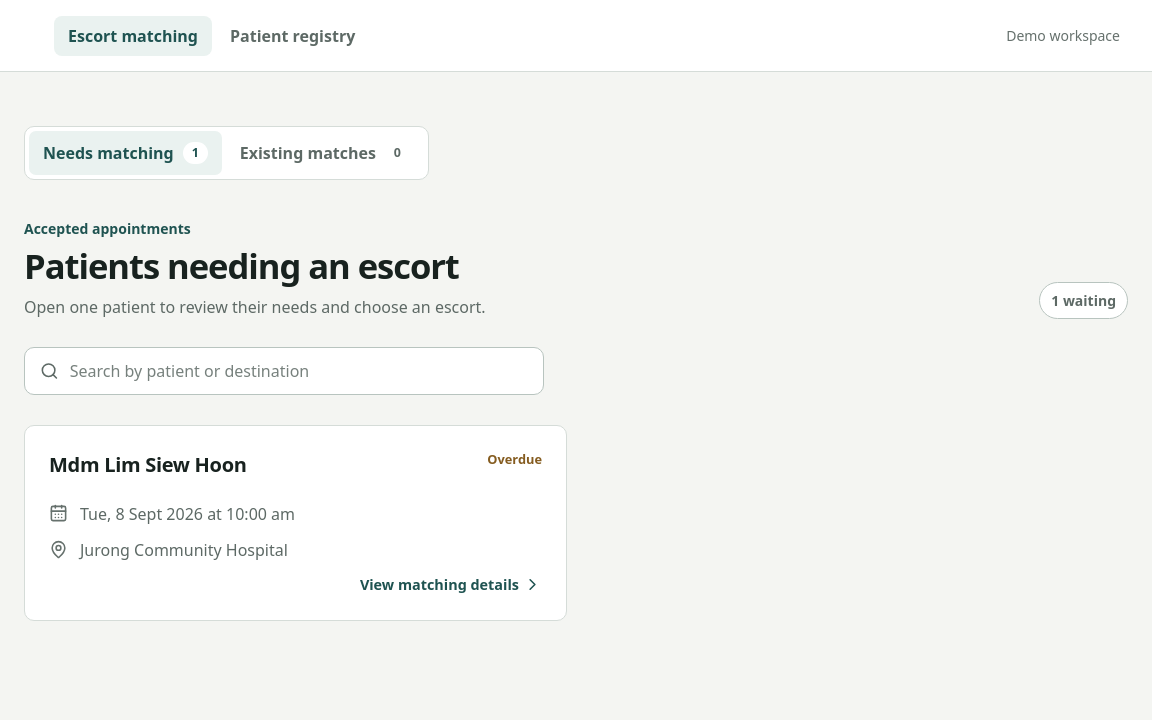
Test: MatchingWorkspace › shows confirmed patient and escort assignments in a separate tab
This screenshot has width=1152, height=720.
Click the tab "Existing matches 0": (325, 153) [226,131,424,175]
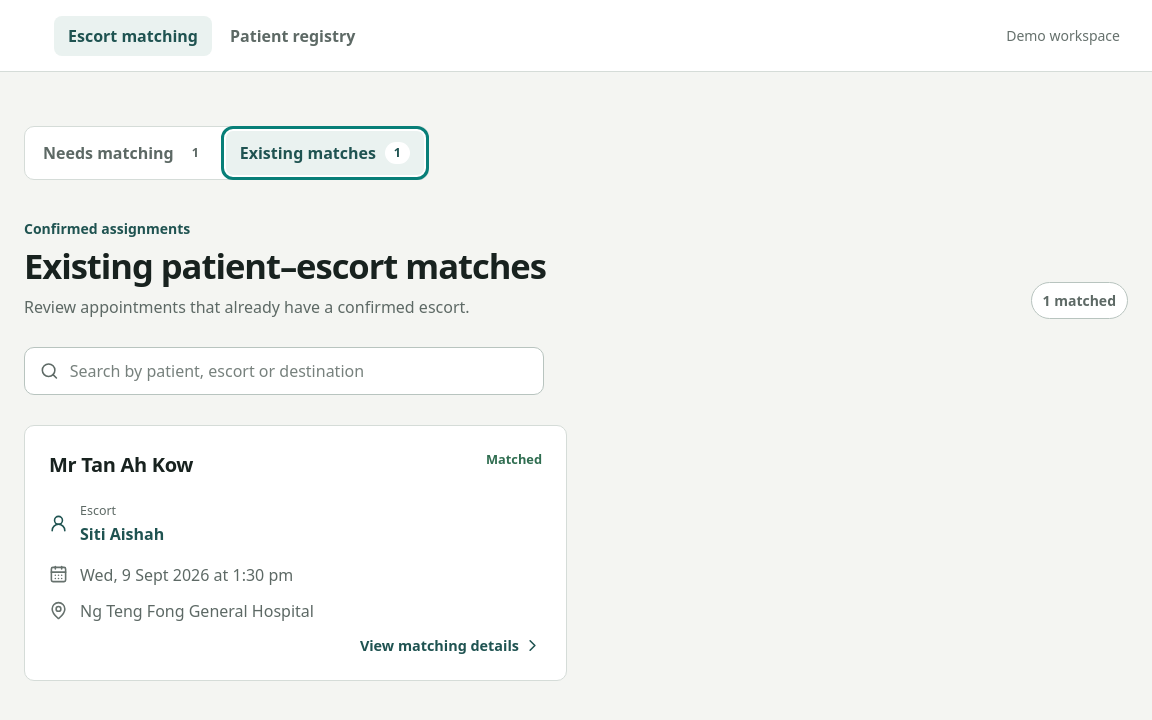
Result: the text "Mr Tan Ah Kow" is shown at [49,450,193,480]
Result: the text "Siti Aishah" is shown at [80,522,164,544]
Result: the text "Ng Teng Fong General Hospital" is shown at [80,600,314,622]
